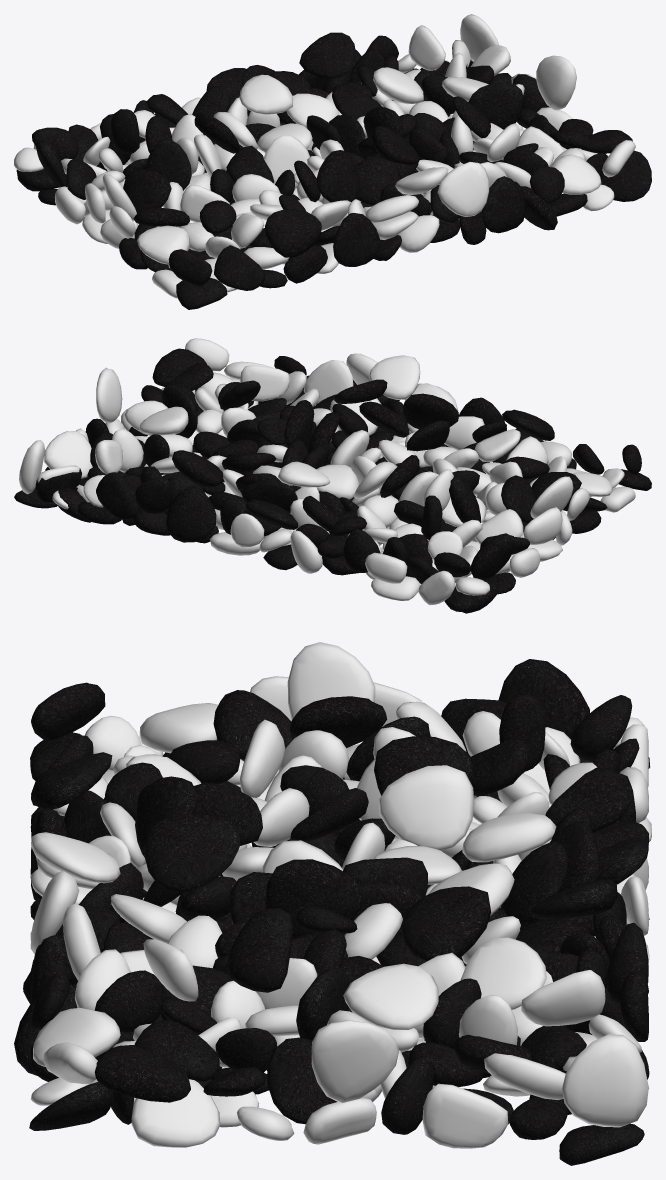
Rendered from Pebbles_mixed_80 x 40.gltf.
3 renders of one model, top to bottom at view 1: azimuth 30°, elevation 25°; view 2: azimuth 150°, elevation 25°; view 3: azimuth 270°, elevation 25°, orthographic. The views are drawn at different scales.
Parts seen in each view (by area): view 1: Pebbles_mixed 80 short; view 2: Pebbles_mixed 80 short; view 3: Pebbles_mixed 80 short.
Part boxes in pixels (x1=…): Pebbles_mixed 80 short: x1=14, y1=14, x2=651, y2=309; Pebbles_mixed 80 short: x1=14, y1=338, x2=651, y2=613; Pebbles_mixed 80 short: x1=14, y1=642, x2=651, y2=1165.
Bounding box in the file's own units: 0.6045 × 0.1166 × 0.4113.
2 materials, 1 textured.
